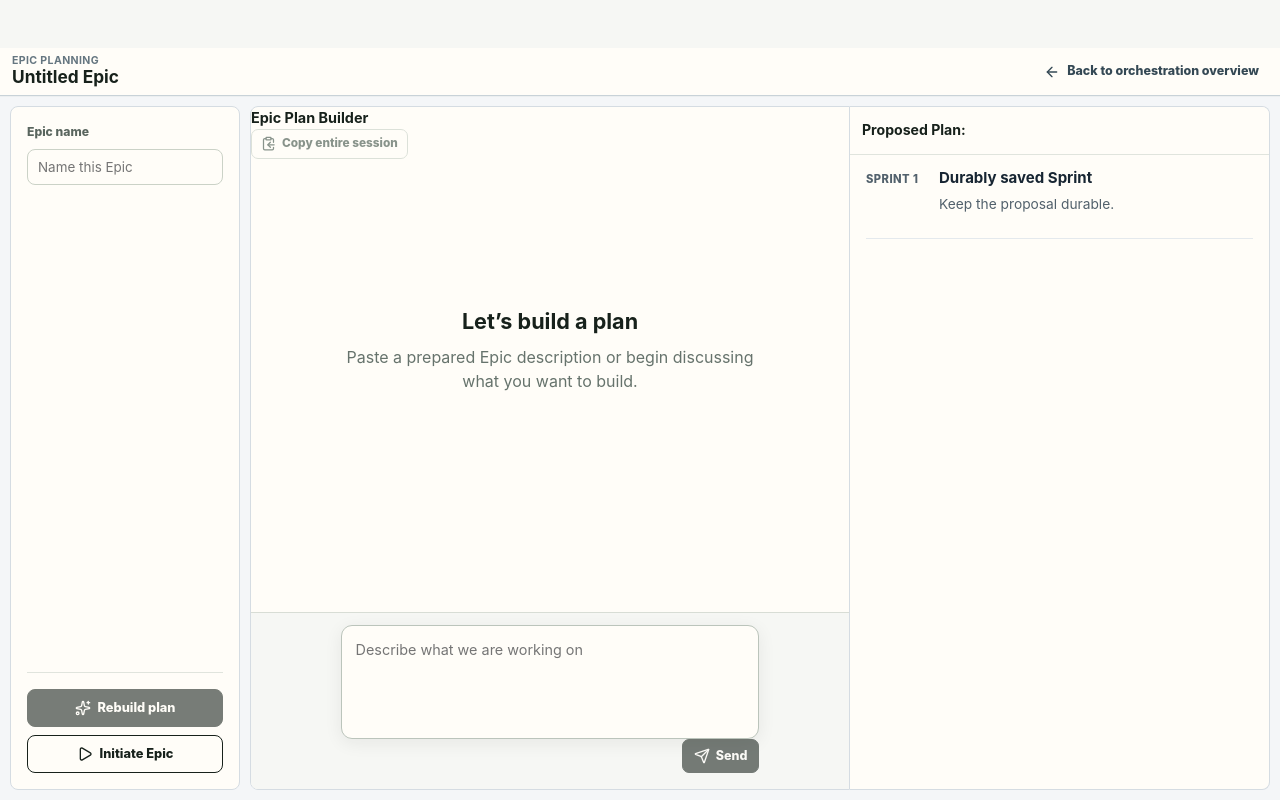
Scenario: EpicPlanBuilder › keeps safe stale-proposal guidance visible and reloads capability authority for retry
Click the button "Initiate Epic" at {"x": 125, "y": 754}, box [27, 735, 223, 773]
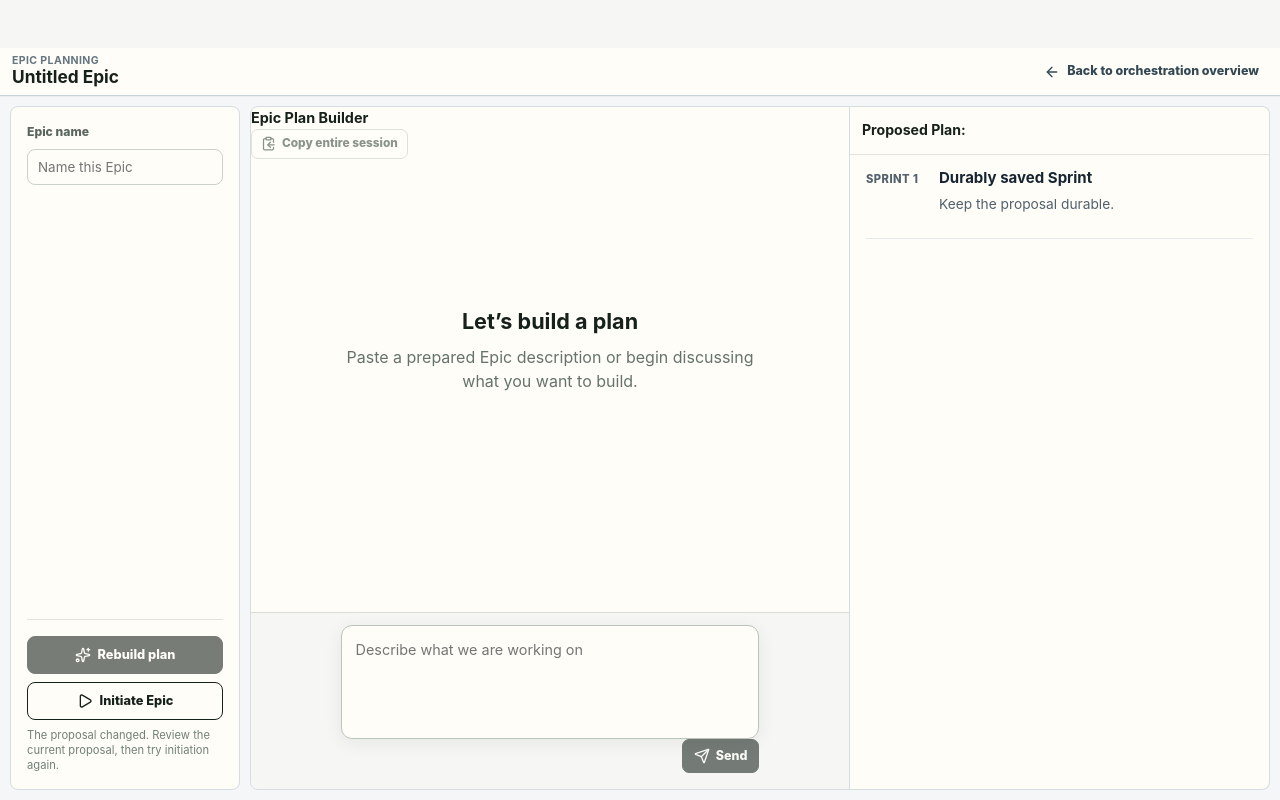
Expected: the text "The proposal changed. Review the current proposal, then try initiation again." is shown, [27, 728, 223, 773]
